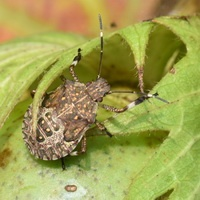insect: (22, 16, 109, 159), (104, 22, 179, 91)
